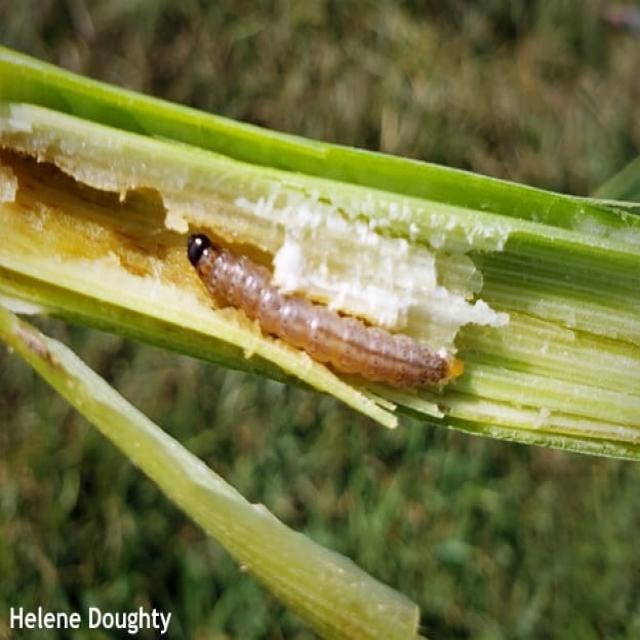cornborer-Larva-: (171, 222, 462, 400)
